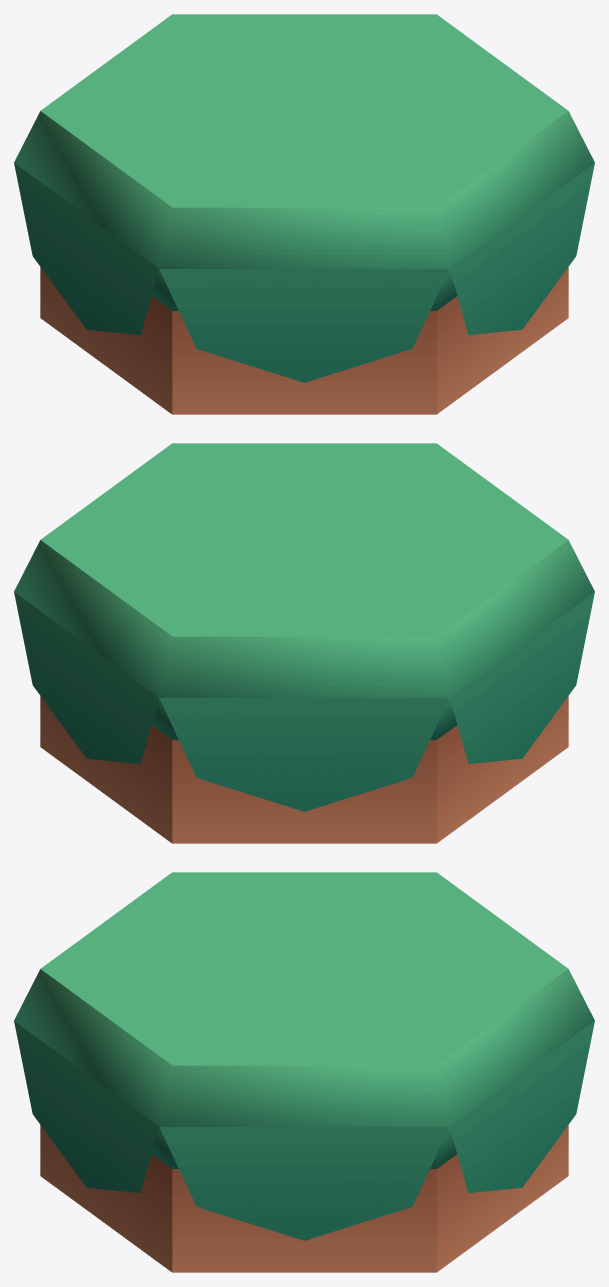
The model's file is block-grass-overhang-low-hexagon.glb.
3 views of the same model, one above another, from view 1: azimuth 30°, elevation 25°; view 2: azimuth 150°, elevation 25°; view 3: azimuth 270°, elevation 25° (orthographic).
Visible parts, largest first — view 1: block-grass-overhang-low-hexagon; view 2: block-grass-overhang-low-hexagon; view 3: block-grass-overhang-low-hexagon.
Boxes of the visible parts, <box> form: block-grass-overhang-low-hexagon: <box>14,14,594,414</box>; block-grass-overhang-low-hexagon: <box>14,443,594,843</box>; block-grass-overhang-low-hexagon: <box>14,872,594,1272</box>.
Bounding box in the file's own units: 1.1 × 0.5 × 1.27.
1 material, 1 textured.
